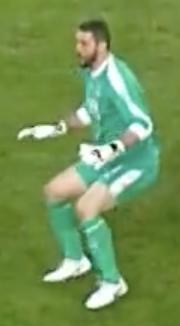goalkeeper: (9, 11, 180, 320)
